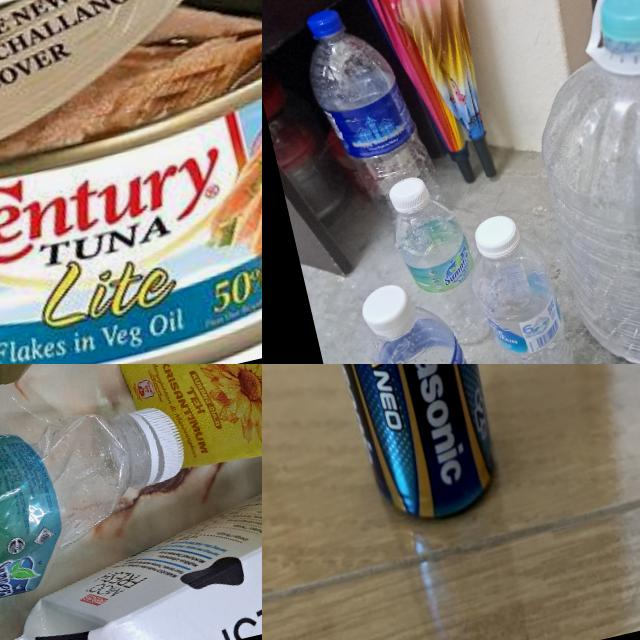bateria: (280, 364, 518, 543)
caixinha: (0, 463, 262, 640), (107, 364, 262, 487)
garrafa plástica: (0, 385, 194, 640), (524, 24, 640, 364), (301, 19, 448, 230), (391, 199, 502, 356), (468, 234, 585, 364), (360, 303, 504, 364)
lata: (0, 0, 262, 364)
tampa plástica: (131, 400, 190, 485), (359, 280, 419, 340), (468, 211, 526, 263), (591, 0, 640, 57), (386, 172, 432, 215), (304, 3, 346, 41)
